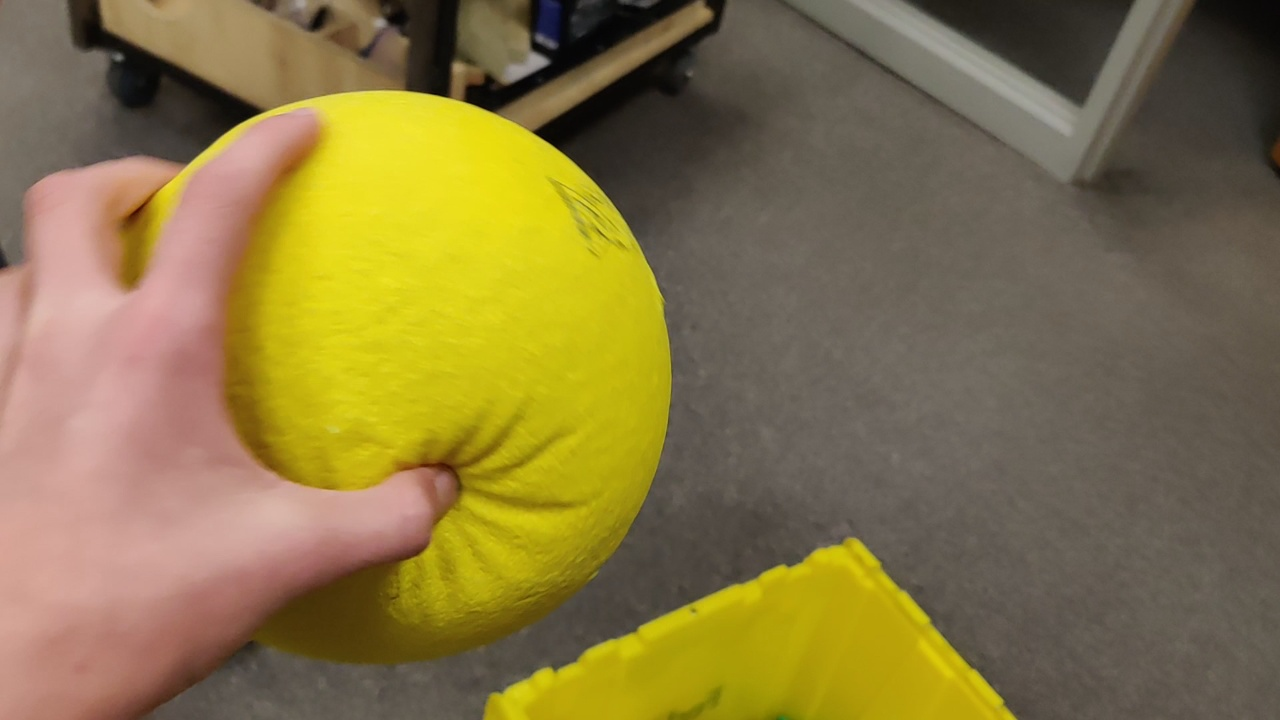Ball: (229, 93, 677, 608)
